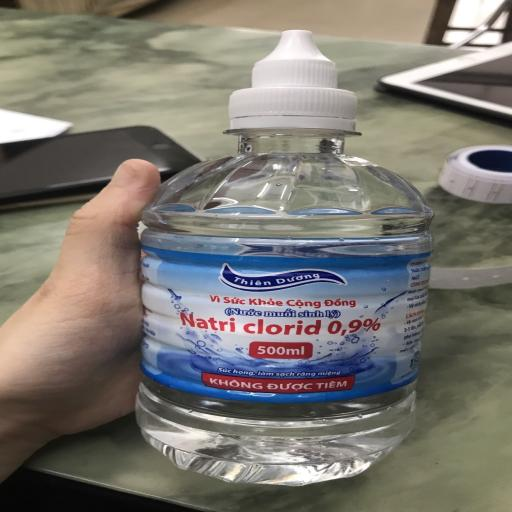bottle: (136, 30, 432, 486)
